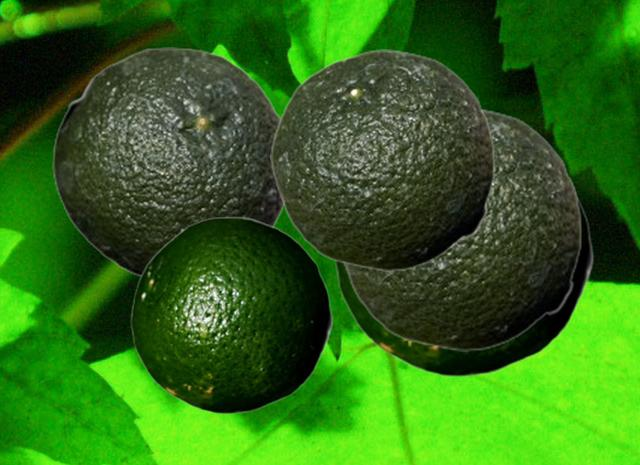calamansi: (340, 106, 581, 350), (52, 47, 284, 279), (334, 177, 593, 376), (270, 49, 494, 270), (130, 216, 332, 413)
